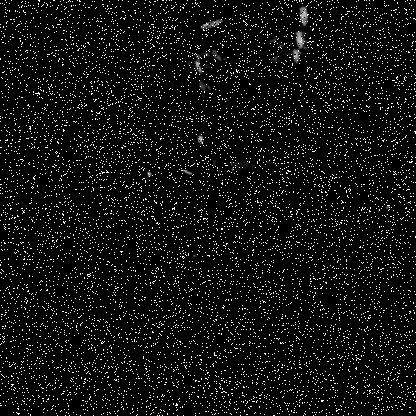Car: (379, 210, 394, 239)
